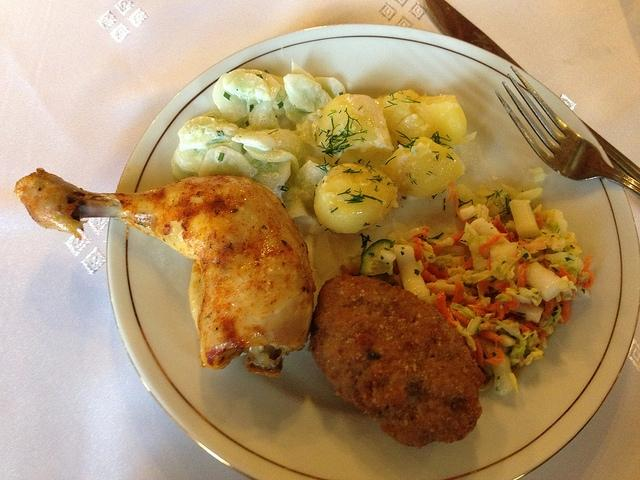potato: (372, 91, 475, 154), (314, 163, 398, 234), (380, 136, 466, 199), (316, 94, 393, 156), (222, 69, 282, 101), (283, 74, 333, 112), (242, 146, 300, 174), (178, 116, 218, 151), (293, 160, 327, 192)
